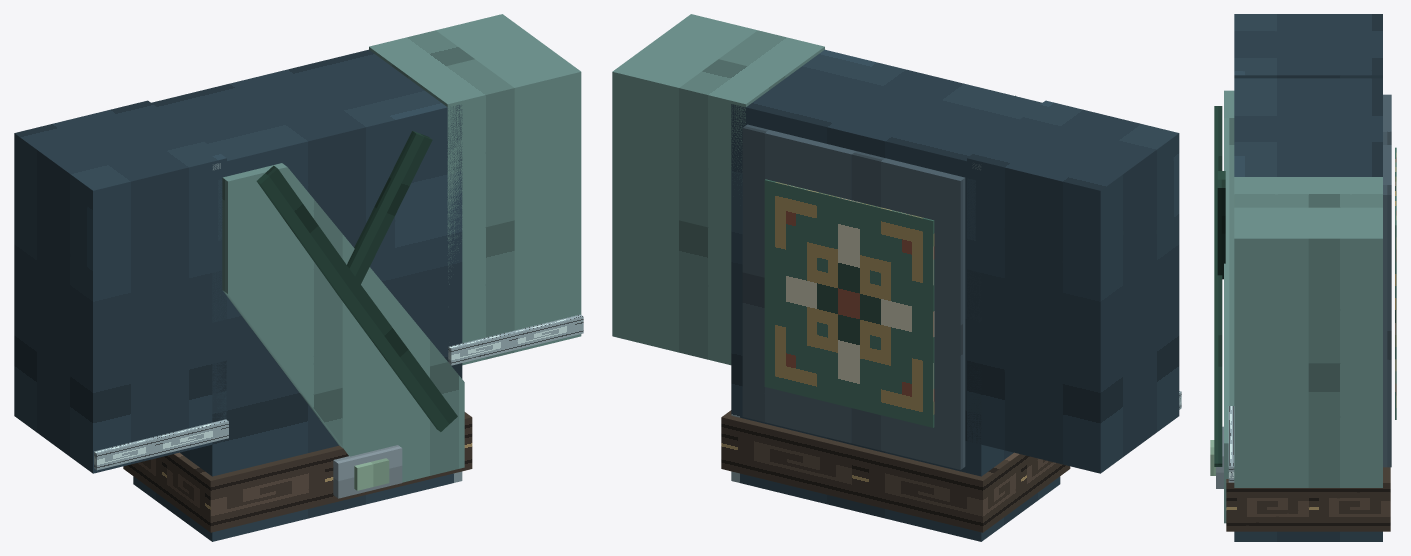
The model's file is qi_moqing_chestplate.obj.
3 views of the same model, side by side, from view 1: azimuth 30°, elevation 25°; view 2: azimuth 150°, elevation 25°; view 3: azimuth 270°, elevation 25° (orthographic). The views are drawn at different scales.
Parts seen in each view (by area): view 1: sleeve_left, body, sleeve_right, cross_lapel, belt, white_lapel_1, white_lapel_0, inner_collar, cuff_edge_1, cuff_edge_-1, belt_seat, belt_jade; view 2: sleeve_left, sleeve_right, orn_back, body, back_weft, belt; view 3: sleeve_right, body, sleeve_left, belt, cross_lapel, back_weft, white_lapel_1, white_lapel_0, inner_collar, orn_back, cuff_edge_1, belt_seat.
Part boxes in pixels (left/top/right/bottom): sleeve_left: left=14, top=100, right=226, bottom=473; body: left=133, top=49, right=462, bottom=541; sleeve_right: left=369, top=14, right=581, bottom=365; cross_lapel: left=222, top=163, right=464, bottom=482; belt: left=123, top=412, right=472, bottom=532; white_lapel_1: left=338, top=283, right=457, bottom=431; white_lapel_0: left=256, top=165, right=358, bottom=297; inner_collar: left=347, top=131, right=432, bottom=284; cuff_edge_1: left=448, top=314, right=583, bottom=365; cuff_edge_-1: left=94, top=419, right=228, bottom=470; belt_seat: left=333, top=445, right=402, bottom=498; belt_jade: left=354, top=458, right=389, bottom=490; sleeve_left: left=967, top=100, right=1179, bottom=473; sleeve_right: left=612, top=14, right=824, bottom=365; orn_back: left=764, top=179, right=934, bottom=427; body: left=731, top=49, right=1060, bottom=541; back_weft: left=742, top=124, right=965, bottom=469; belt: left=721, top=410, right=1070, bottom=532; sleeve_right: left=1234, top=177, right=1382, bottom=487; body: left=1234, top=78, right=1382, bottom=541; sleeve_left: left=1234, top=14, right=1382, bottom=78; belt: left=1226, top=467, right=1390, bottom=531; cross_lapel: left=1224, top=90, right=1234, bottom=523; back_weft: left=1383, top=94, right=1391, bottom=467; white_lapel_1: left=1214, top=269, right=1222, bottom=466; white_lapel_0: left=1214, top=106, right=1222, bottom=269; inner_collar: left=1217, top=171, right=1225, bottom=279; orn_back: left=1395, top=147, right=1396, bottom=419; cuff_edge_1: left=1228, top=406, right=1234, bottom=482; belt_seat: left=1216, top=426, right=1223, bottom=488.
Size of the model in its own units: 1.05 by 0.7812 by 0.3687.
